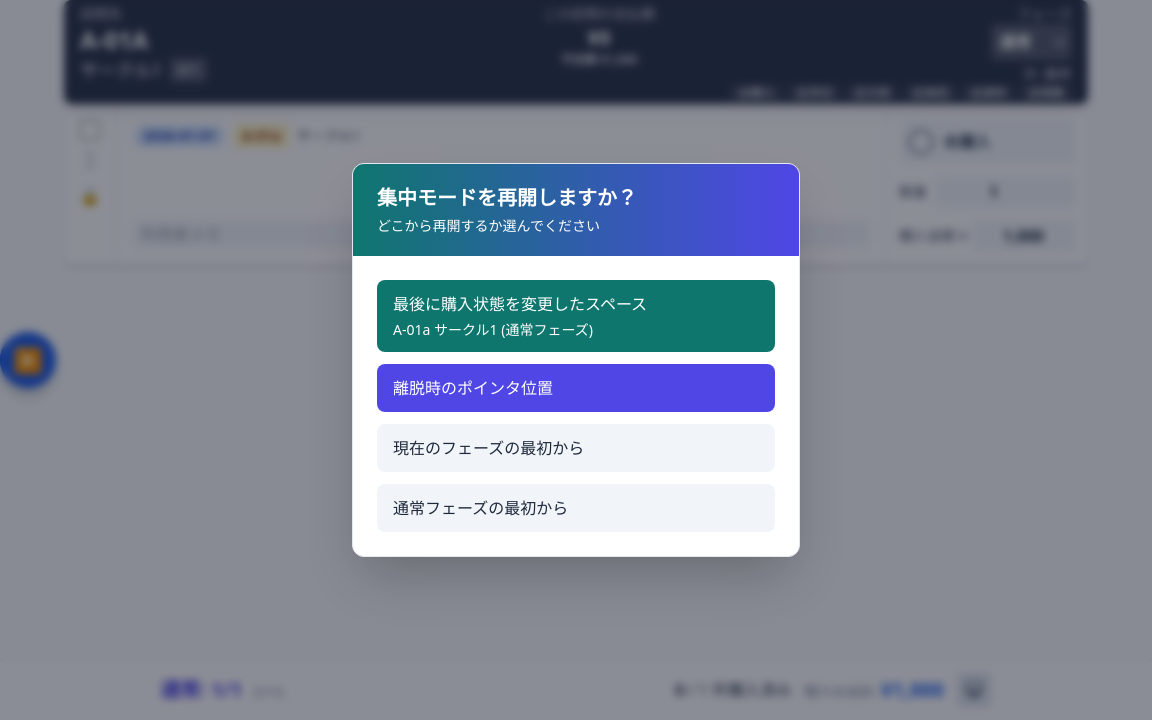
it: FocusMode resume dialog - integration › pointer 選択で完了画面が表示される (lastPurchaseChangeAt あり)
Check: the heading "集中モードを再開しますか？" is shown, box 377,184 -> 637,211
Click the button "離脱時のポインタ位置": point(473, 388) 377,364 -> 775,412
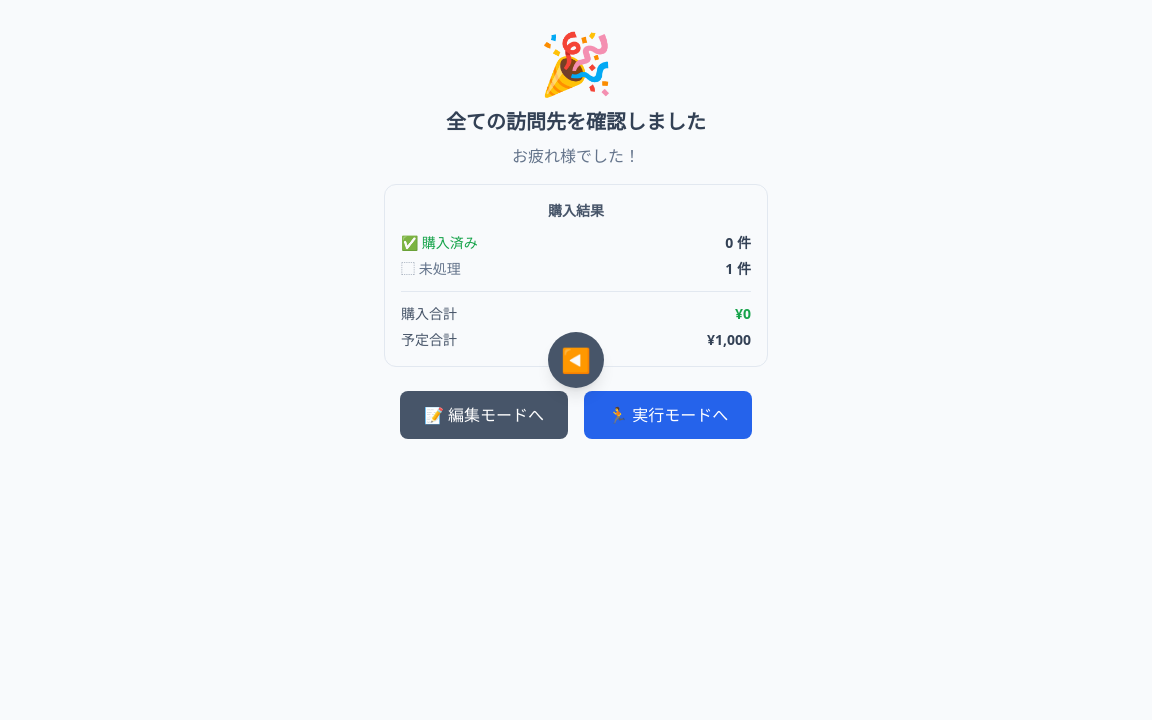
Check: the heading "全ての訪問先を確認しました" is shown, box 446,108 -> 706,136
